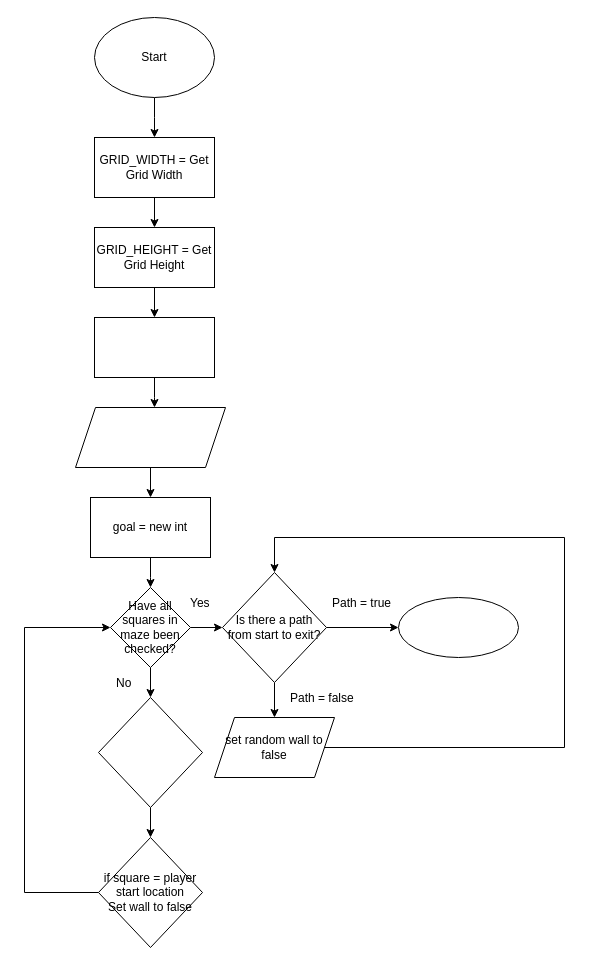
This 590x965 diagram has some shape labels left out. Each missing label, with the box of its shape:
grid = new bool[GRID_WIDTH, GRID_HEIGHT]: (94, 316, 214, 378)
if square = goal Set wall to false: (98, 696, 202, 808)
Randomize end goal coordinates: (74, 406, 226, 468)
Stop: (398, 596, 518, 658)
